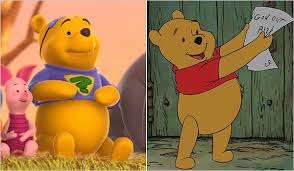Winnie: (149, 6, 239, 95), (29, 12, 104, 80)
